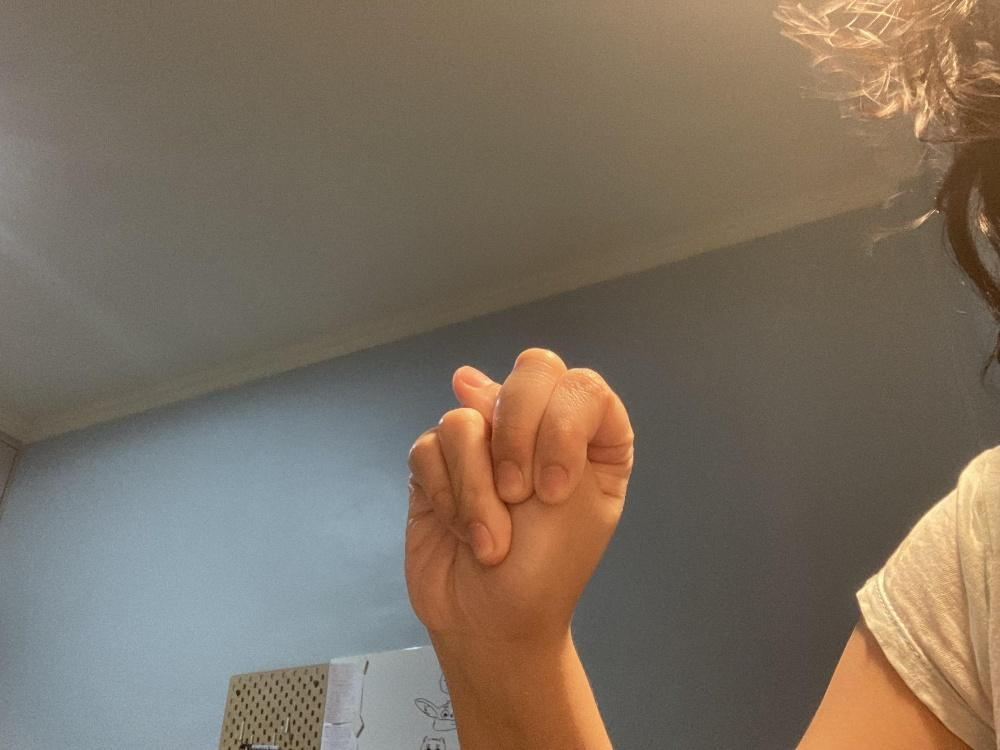n: (403, 346, 635, 638)
